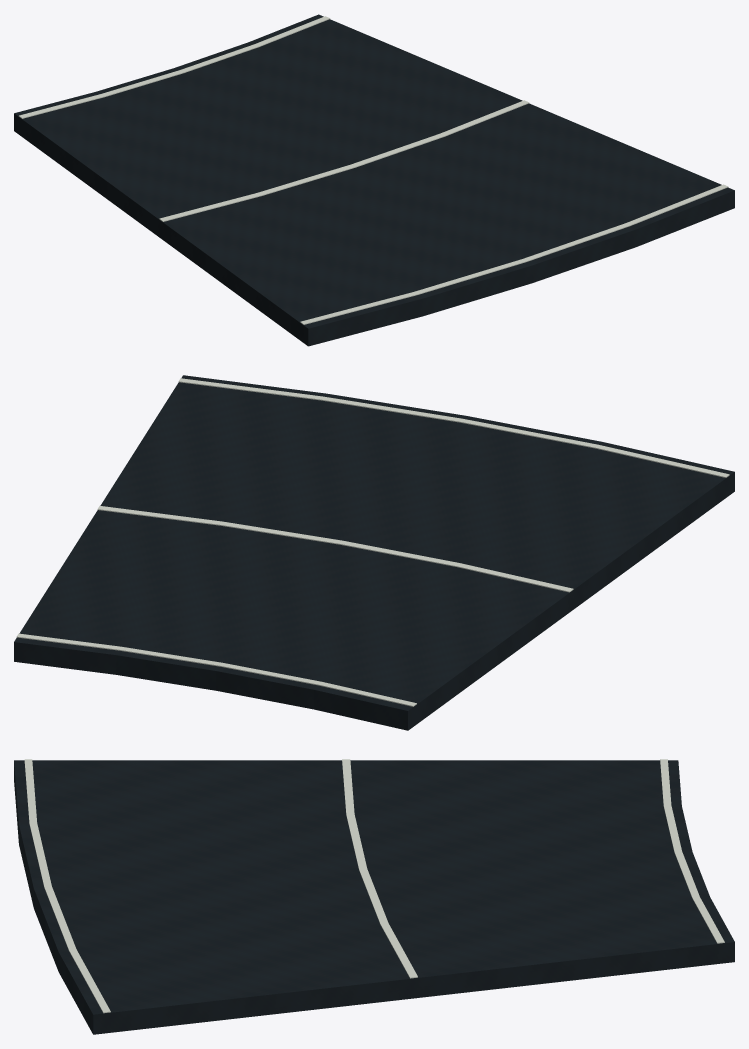
The model's file is Transit_Road_2L_Curve15_R18.glb.
3 renders of one model, top to bottom at view 1: azimuth 30°, elevation 25°; view 2: azimuth 150°, elevation 25°; view 3: azimuth 270°, elevation 25°, orthographic. The views are drawn at different scales.
Visible parts, largest first — view 1: Transit_Road_2L_Curve15_R18_Surface, Transit_Road_2L_Curve15_R18_MarkEdge-1, Transit_Road_2L_Curve15_R18_MarkLane1, Transit_Road_2L_Curve15_R18_MarkEdge+1; view 2: Transit_Road_2L_Curve15_R18_Surface, Transit_Road_2L_Curve15_R18_MarkEdge-1, Transit_Road_2L_Curve15_R18_MarkLane1, Transit_Road_2L_Curve15_R18_MarkEdge+1; view 3: Transit_Road_2L_Curve15_R18_Surface, Transit_Road_2L_Curve15_R18_MarkEdge-1, Transit_Road_2L_Curve15_R18_MarkLane1, Transit_Road_2L_Curve15_R18_MarkEdge+1.
Boxes of the visible parts, <box> form: Transit_Road_2L_Curve15_R18_Surface: <box>14,14,734,346</box>; Transit_Road_2L_Curve15_R18_MarkEdge-1: <box>300,184,728,324</box>; Transit_Road_2L_Curve15_R18_MarkLane1: <box>159,100,529,221</box>; Transit_Road_2L_Curve15_R18_MarkEdge+1: <box>18,16,330,118</box>; Transit_Road_2L_Curve15_R18_Surface: <box>14,375,734,730</box>; Transit_Road_2L_Curve15_R18_MarkEdge-1: <box>178,378,729,477</box>; Transit_Road_2L_Curve15_R18_MarkLane1: <box>97,506,573,592</box>; Transit_Road_2L_Curve15_R18_MarkEdge+1: <box>16,633,416,706</box>; Transit_Road_2L_Curve15_R18_Surface: <box>14,760,734,1034</box>; Transit_Road_2L_Curve15_R18_MarkEdge-1: <box>24,759,110,1013</box>; Transit_Road_2L_Curve15_R18_MarkLane1: <box>342,759,417,978</box>; Transit_Road_2L_Curve15_R18_MarkEdge+1: <box>660,759,724,943</box>.
Size of the model in its own units: 5.44 by 0.212 by 6.51.
Materials: 2 (1 with a texture image).
